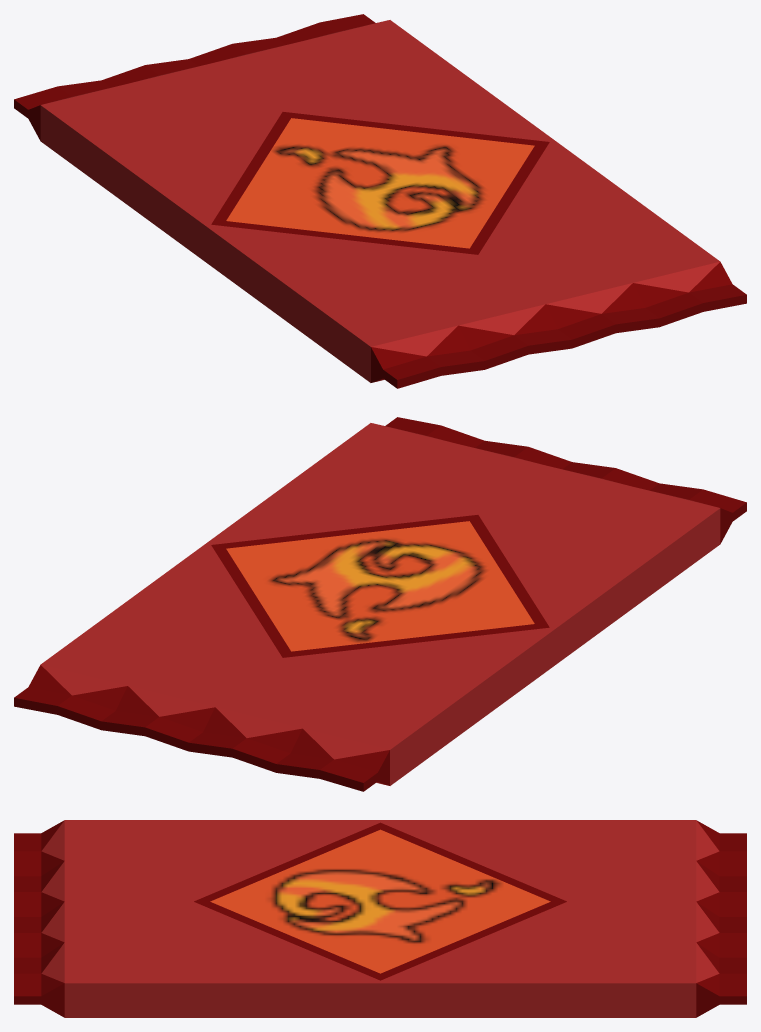
File: CardPack_Fire.fbx
3 views of the same model, one above another, from view 1: azimuth 30°, elevation 25°; view 2: azimuth 150°, elevation 25°; view 3: azimuth 270°, elevation 25° (orthographic). The views are drawn at different scales.
Parts seen in each view (by area): view 1: Fire; view 2: Fire; view 3: Fire.
Part boxes in pixels (x1=…): Fire: x1=14, y1=14, x2=746, y2=388; Fire: x1=14, y1=417, x2=746, y2=791; Fire: x1=14, y1=820, x2=746, y2=1017.
Size of the model in its own units: 17.42 by 1.73 by 33.09.
